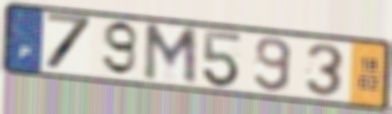3: (302, 42, 346, 99)
5: (200, 27, 244, 90)
7: (44, 11, 95, 75)
9: (98, 20, 140, 80), (252, 36, 293, 95)
M: (141, 22, 200, 88)
